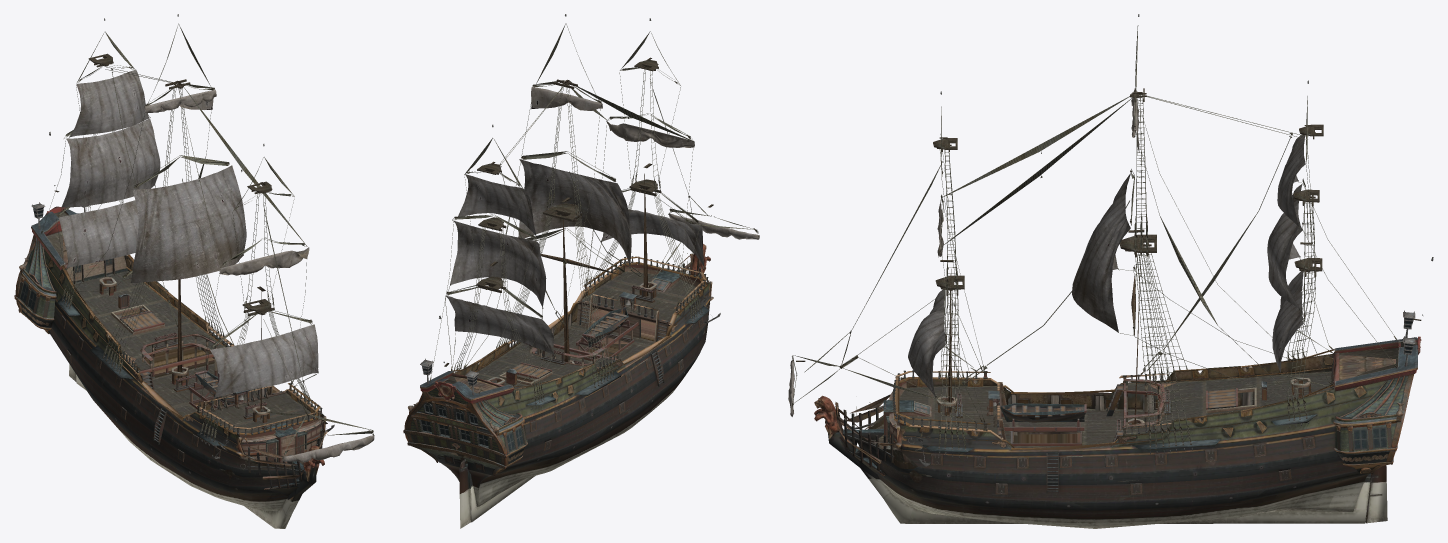
Rendered from ship_pinnace.glb.
3 views of the same model, side by side, from view 1: azimuth 30°, elevation 25°; view 2: azimuth 150°, elevation 25°; view 3: azimuth 270°, elevation 25° (orthographic). The views are drawn at different scales.
Visible parts, largest first — view 1: ship_pinnace_sails, ship_pinnace_hull, ship_pinnace_deck, ship_pinnace_rigging, ship_pinnace_details, ship_pinnace_aft, ship_pinnace_interior; view 2: ship_pinnace_sails, ship_pinnace_hull, ship_pinnace_rigging, ship_pinnace_deck, ship_pinnace_aft, ship_pinnace_details, ship_pinnace_interior; view 3: ship_pinnace_hull, ship_pinnace_rigging, ship_pinnace_deck, ship_pinnace_sails, ship_pinnace_interior, ship_pinnace_aft, ship_pinnace_details.
Part boxes in pixels (box(x1,y1,x2,y2)): ship_pinnace_sails: box(59, 69, 374, 462); ship_pinnace_hull: box(43, 248, 327, 528); ship_pinnace_deck: box(46, 212, 322, 469); ship_pinnace_rigging: box(41, 14, 374, 474); ship_pinnace_details: box(31, 202, 324, 481); ship_pinnace_aft: box(14, 206, 79, 333); ship_pinnace_interior: box(59, 235, 323, 481); ship_pinnace_sails: box(445, 86, 759, 354); ship_pinnace_hull: box(420, 253, 713, 528); ship_pinnace_rigging: box(429, 14, 759, 409); ship_pinnace_deck: box(444, 256, 708, 405); ship_pinnace_aft: box(403, 371, 527, 476); ship_pinnace_details: box(420, 244, 710, 395); ship_pinnace_interior: box(432, 262, 709, 463); ship_pinnace_hull: box(826, 349, 1387, 528); ship_pinnace_rigging: box(792, 14, 1433, 466); ship_pinnace_deck: box(862, 340, 1417, 461); ship_pinnace_sails: box(788, 90, 1305, 416); ship_pinnace_interior: box(865, 353, 1395, 483); ship_pinnace_aft: box(1333, 336, 1421, 475); ship_pinnace_details: box(814, 310, 1415, 493).
Bounding box in the file's own units: 9.53 × 32.55 × 37.44.
7 materials, 7 textured.
